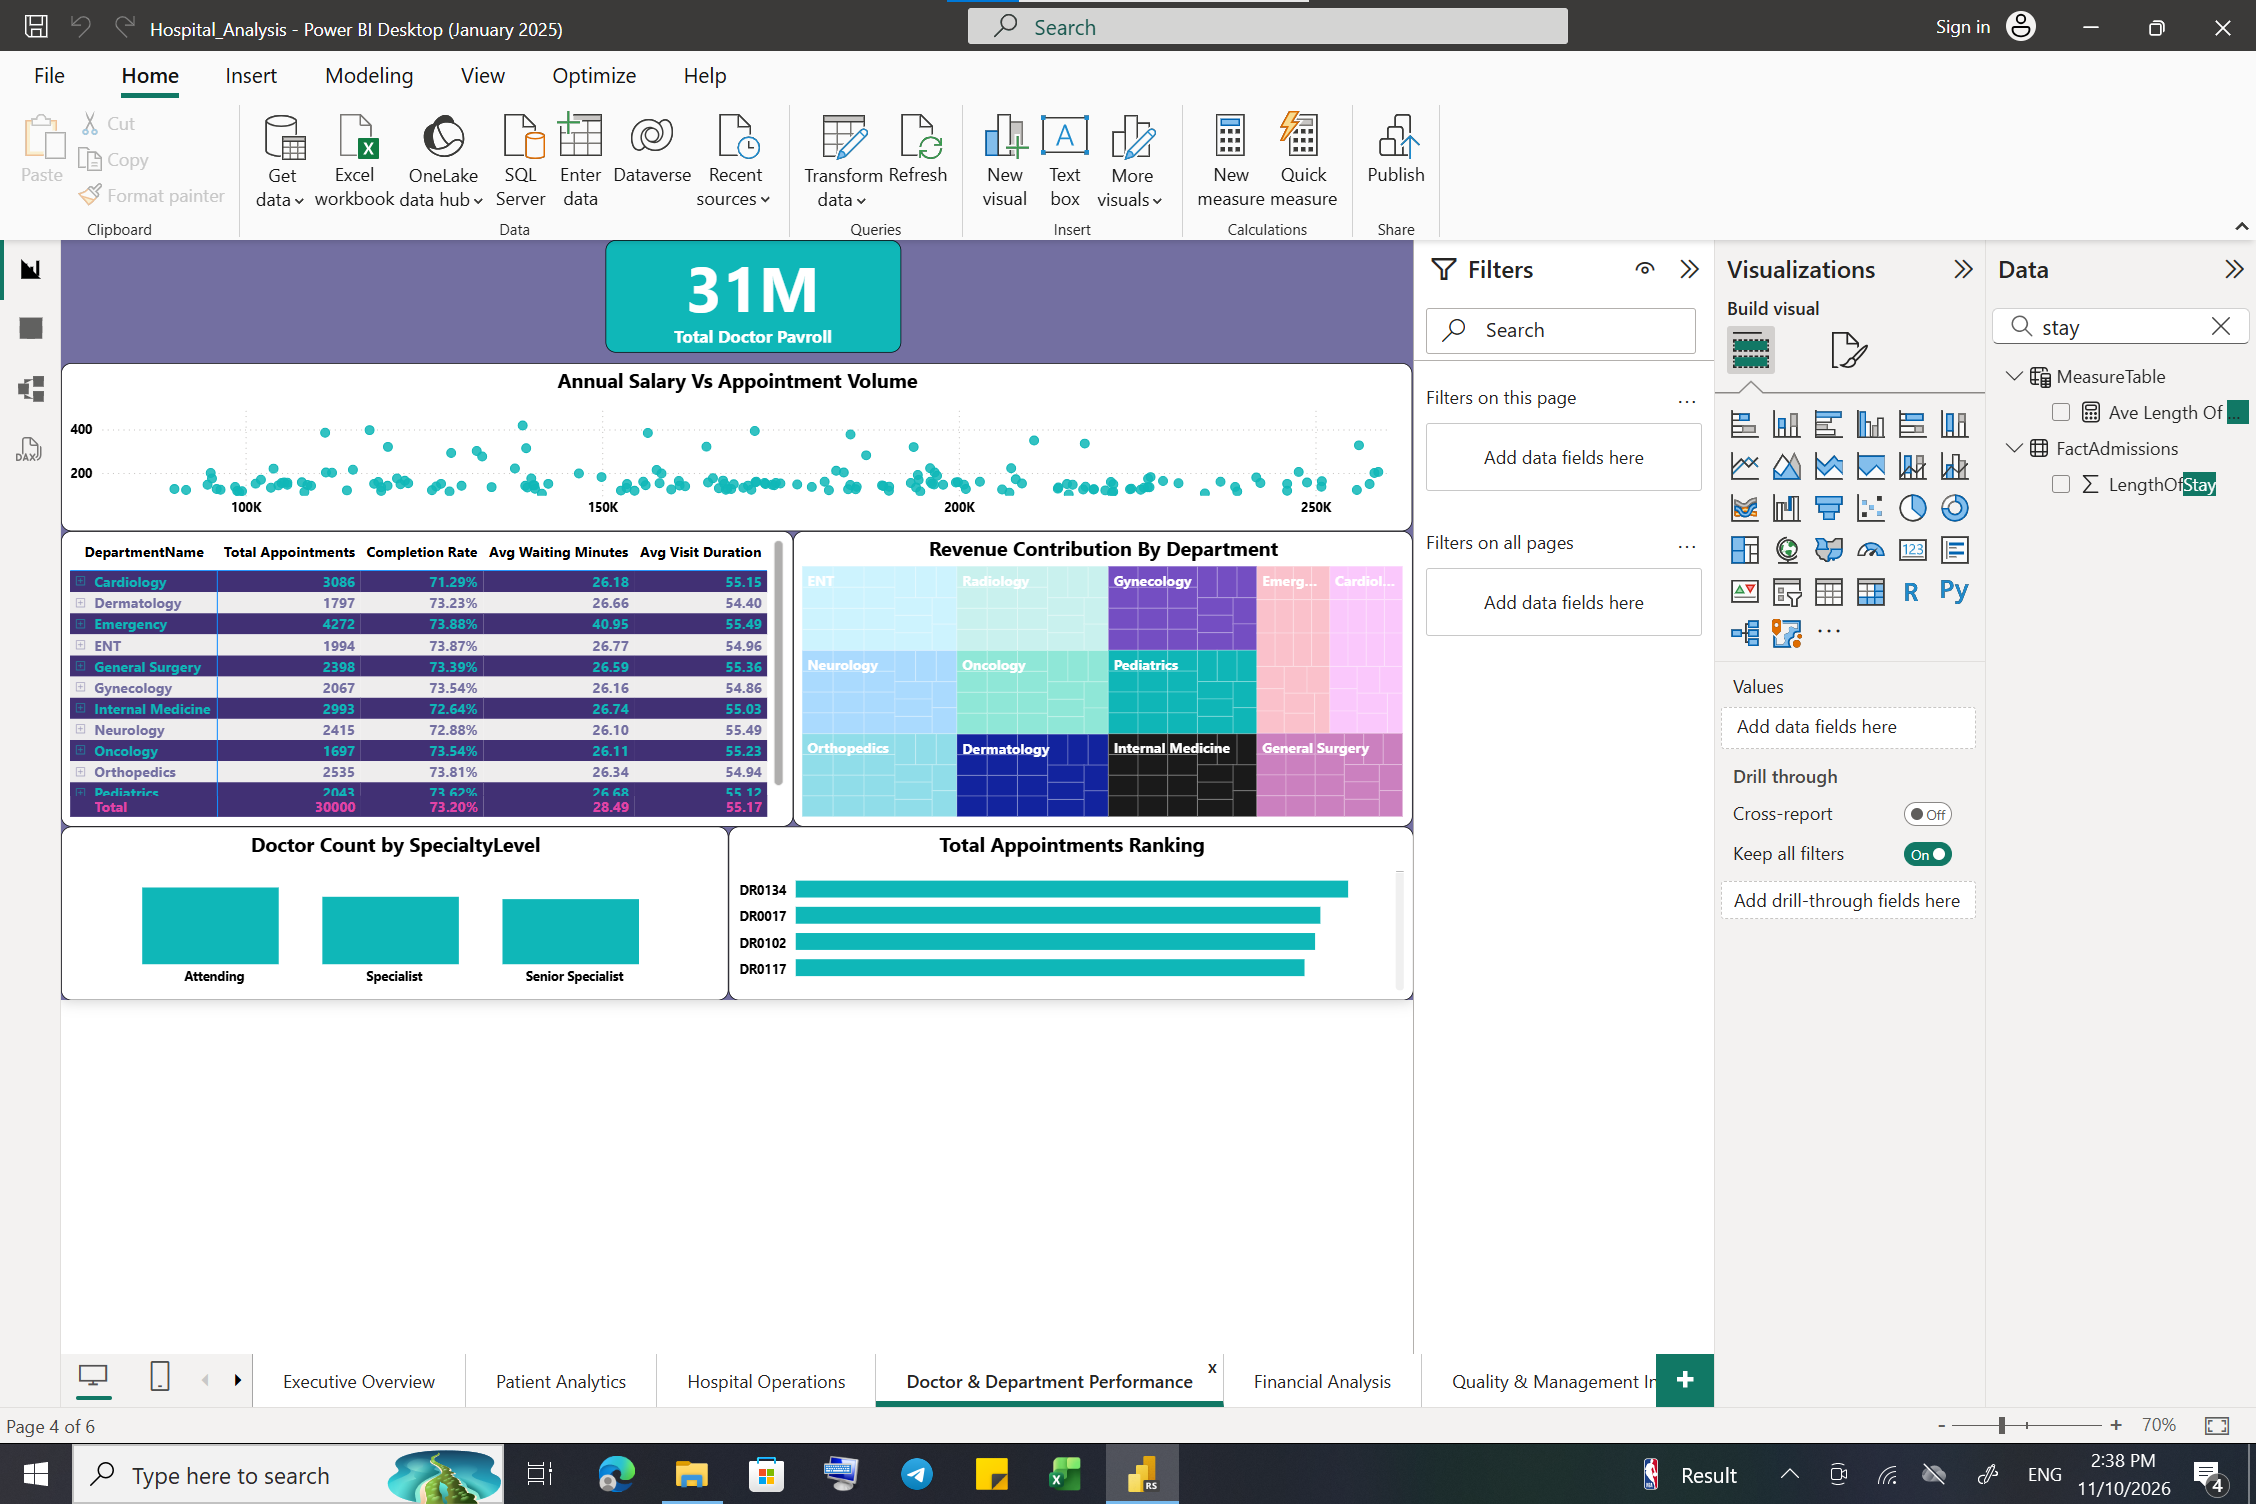

Layout of this report page (visuals, bound fields, positions):
{"tool":"powerbi","page":{"name":"Doctor & Department Performance","canvas":[1280,720],"ordinal":3},"visuals":[{"type":"card","fields":{"Values":["MeasureTable.Total Doctor Payroll"]},"box":[515.5,0,279.8,106.5],"z":0},{"type":"clusteredBarChart","title":"Total Appointments Ranking","fields":{"Category":["DimDoctor.DoctorID"],"Y":["MeasureTable.Total Appointments"]},"box":[632,555.3,649,164.7],"z":1000},{"type":"clusteredColumnChart","title":"Doctor Count by SpecialtyLevel","fields":{"Y":["CountNonNull(DimDoctor.DoctorID)"],"Category":["DimDoctor.SpecialtyLevel"]},"box":[0,555.3,632,164.7],"z":2000},{"type":"scatterChart","title":"Annual Salary Vs Appointment Volume","fields":{"Y":["MeasureTable.Total Appointments"],"X":["Sum(DimDoctor.AnnualSalary)"],"Category":["DimDoctor.DoctorID"]},"box":[0,116.5,1279.5,159.1],"z":3000},{"type":"pivotTable","fields":{"Rows":["DimDepartment.DepartmentName","DimDoctor.LastName"],"Values":["MeasureTable.Total Appointments","MeasureTable.Completion Rate","MeasureTable.Avg Waiting Minutes","MeasureTable.Avg Visit Duration"]},"box":[0,275.5,693,279.8],"z":4000},{"type":"treemap","title":"Revenue Contribution By Department","fields":{"Group":["DimDepartment.DepartmentName"],"Details":["DimDoctor.LastName"],"Values":["MeasureTable.Revenue Per Billing Record"]},"box":[693,275.5,586.5,279.8],"z":5000}]}

Visuals, with their boxes on the page's 1280x720 design canvas (x1, y1, x2, y2). These are canvas units, not pixel positions in the 2256x1504 screenshot, which may show the page scaled, cropped or inside an application window:
card - MeasureTable.Total Doctor Payroll: left=516, top=0, right=795, bottom=106
"Total Appointments Ranking" clusteredBarChart: left=632, top=555, right=1281, bottom=720
"Doctor Count by SpecialtyLevel" clusteredColumnChart: left=0, top=555, right=632, bottom=720
"Annual Salary Vs Appointment Volume" scatterChart: left=0, top=116, right=1280, bottom=276
pivotTable - DimDepartment.DepartmentName x DimDoctor.LastName: left=0, top=276, right=693, bottom=555
"Revenue Contribution By Department" treemap: left=693, top=276, right=1280, bottom=555
